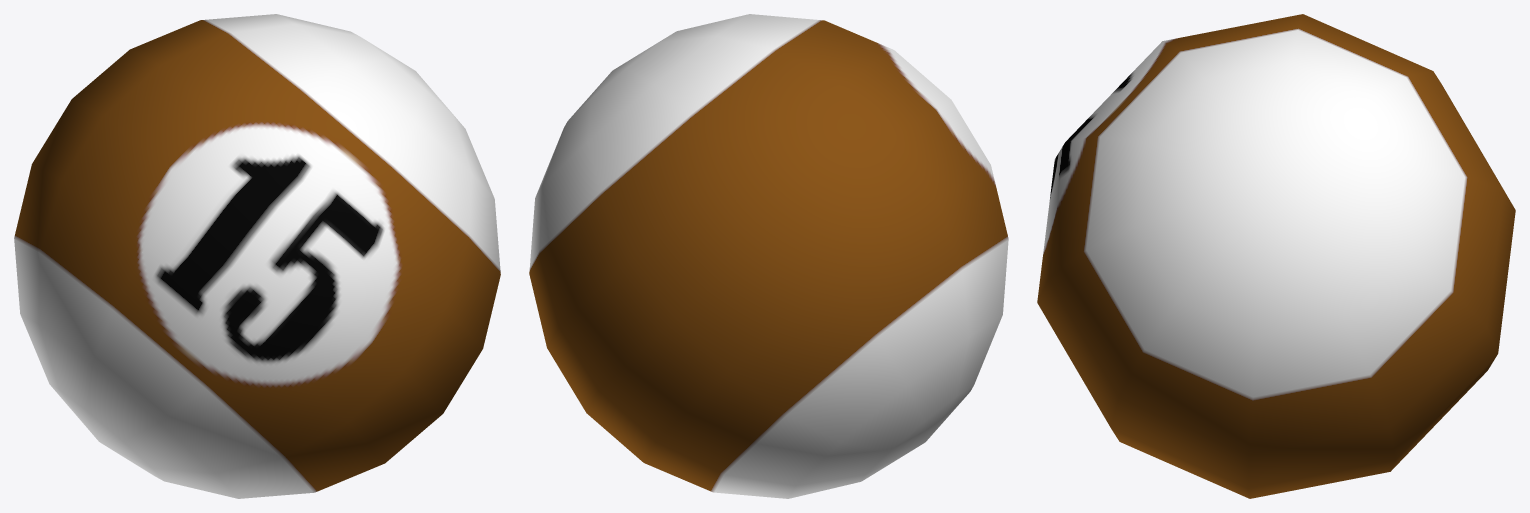
The model's file is Ball15.gltf.
3 views of the same model, side by side, from view 1: azimuth 30°, elevation 25°; view 2: azimuth 150°, elevation 25°; view 3: azimuth 270°, elevation 25° (orthographic).
Visible parts, largest first — view 1: Ball7_Material_#37_0; view 2: Ball7_Material_#37_0; view 3: Ball7_Material_#37_0.
Part boxes in pixels (x1,y1,x2,y2): Ball7_Material_#37_0: (14, 14, 500, 498); Ball7_Material_#37_0: (529, 14, 1008, 498); Ball7_Material_#37_0: (1037, 14, 1515, 498).
Size of the model in its own units: 5.74 by 5.74 by 5.67.
Materials: 1 (1 with a texture image).
